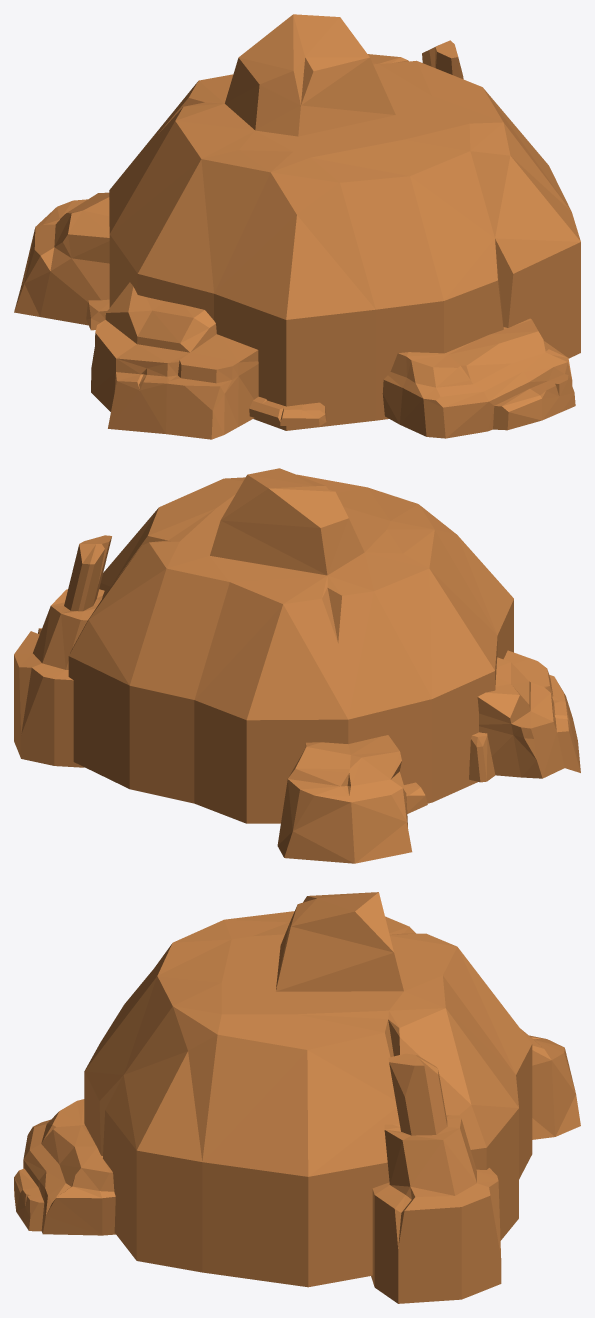
The model's file is RockRound.fbx.
3 views of the same model, one above another, from view 1: azimuth 30°, elevation 25°; view 2: azimuth 150°, elevation 25°; view 3: azimuth 270°, elevation 25° (orthographic). The views are drawn at different scales.
Parts seen in each view (by area): view 1: 立方体.032; view 2: 立方体.032; view 3: 立方体.032.
Part boxes in pixels (bbox=[...]): 立方体.032: bbox=[14, 14, 580, 439]; 立方体.032: bbox=[14, 468, 580, 863]; 立方体.032: bbox=[14, 892, 580, 1303].
Size of the model in its own units: 1339 by 1314 by 755.
